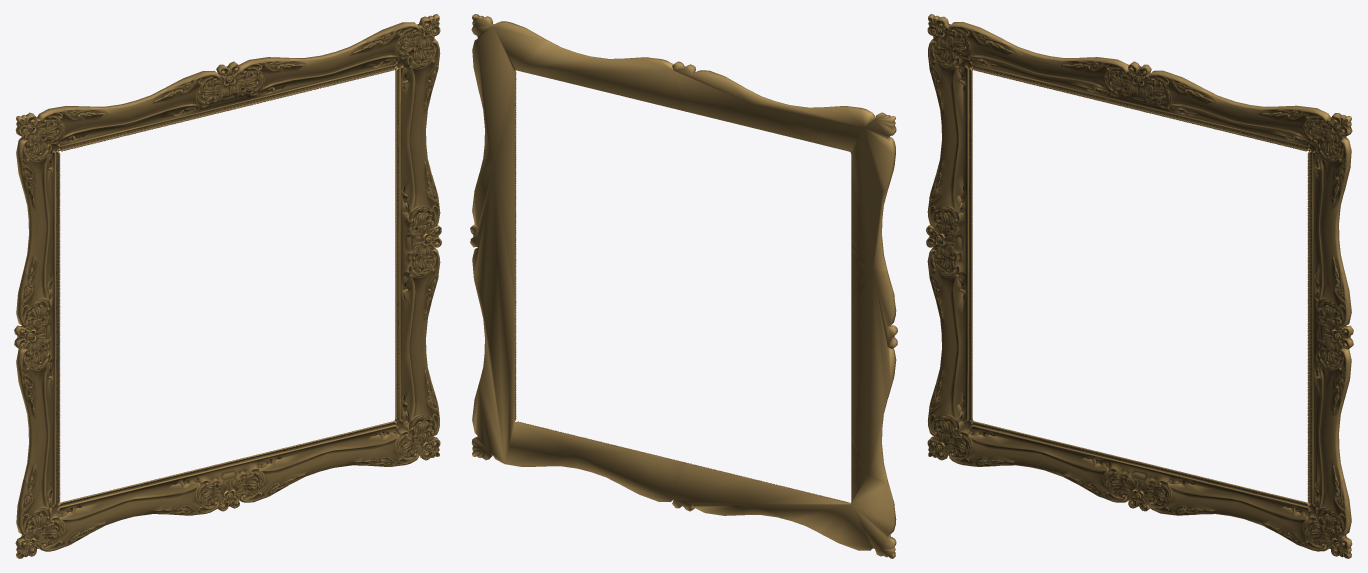
Rendered from Neliökehykset.fbx.
3 renders of one model, left to right at view 1: azimuth 30°, elevation 25°; view 2: azimuth 150°, elevation 25°; view 3: azimuth 330°, elevation 25°, orthographic.
Visible parts, largest first — view 1: Neliökehykset; view 2: Neliökehykset; view 3: Neliökehykset.
Part boxes in pixels (box(x1,y1,x2,y2)): Neliökehykset: box(14, 14, 441, 558); Neliökehykset: box(470, 14, 897, 558); Neliökehykset: box(926, 14, 1353, 558).
Bounding box in the file's own units: 63.36 × 63.36 × 1.1.
